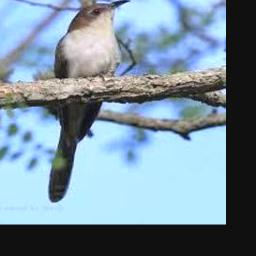Cuckoo: (47, 0, 131, 202)
